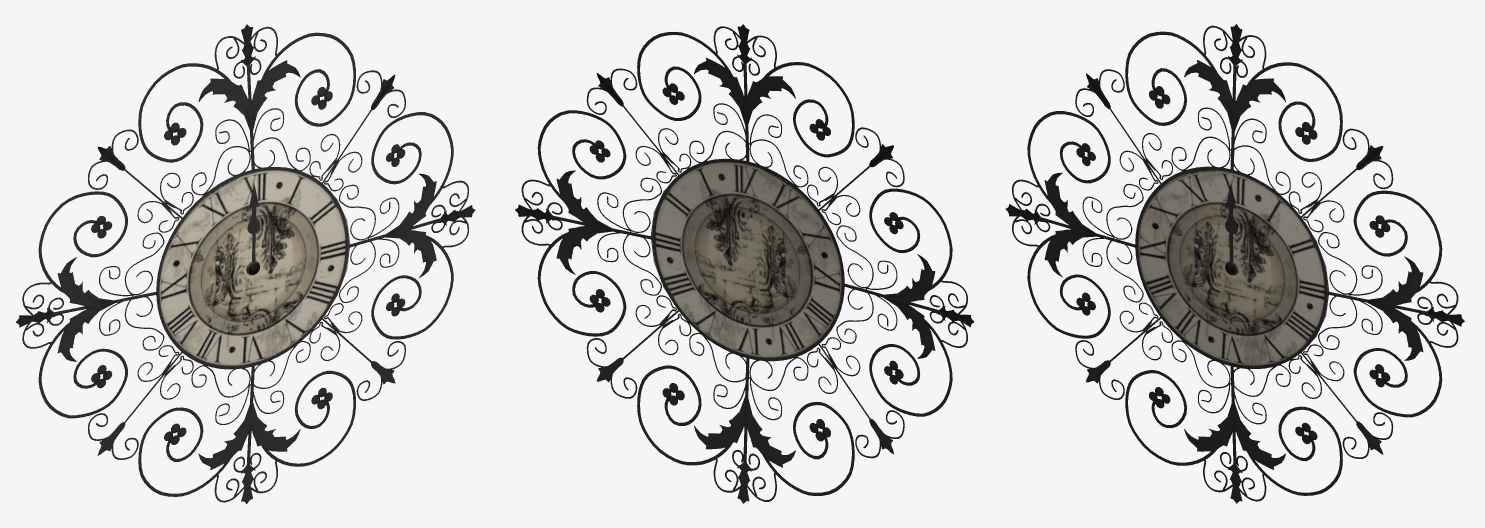
File: wanduhr_05.fbx
The picture shows the model from 3 angles, left to right: view 1: azimuth 30°, elevation 25°; view 2: azimuth 150°, elevation 25°; view 3: azimuth 330°, elevation 25°; orthographic projection.
Parts seen in each view (by area): view 1: wanduhr_05; view 2: wanduhr_05; view 3: wanduhr_05.
Part boxes in pixels (x1,y1,x2,y2): wanduhr_05: (16, 24, 475, 503); wanduhr_05: (515, 24, 973, 503); wanduhr_05: (1005, 24, 1464, 503).
Size of the model in its own units: 105 by 105 by 2.64.
